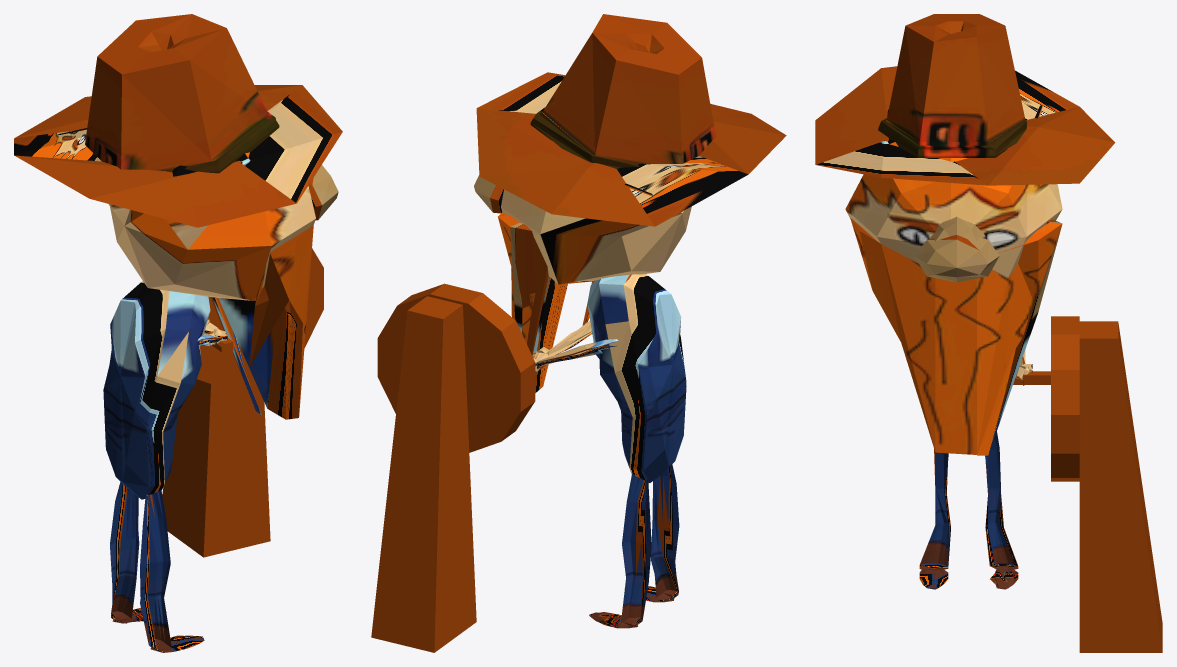
File: BitTurn.glb
3 renders of one model, left to right at view 1: azimuth 30°, elevation 25°; view 2: azimuth 150°, elevation 25°; view 3: azimuth 270°, elevation 25°, orthographic. The views are drawn at different scales.
Parts seen in each view (by area): view 1: BitTurn; view 2: BitTurn; view 3: BitTurn.
Part boxes in pixels (x1,y1,x2,y2): BitTurn: (14,14,342,652); BitTurn: (371,14,786,652); BitTurn: (815,14,1162,652).
Bounding box in the file's own units: 341 × 572 × 323.
1 material, 1 textured.
